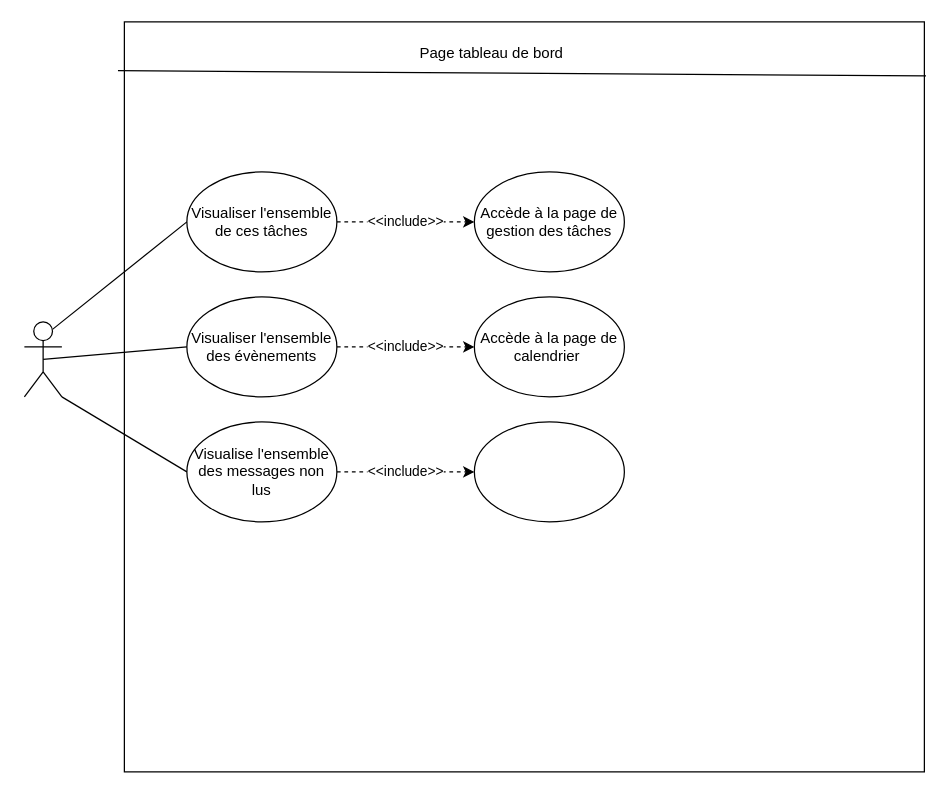
This 950x794 diagram has some shape labels left out. The centre of each missing label's shape, as x and y in pixels:
"Accède au tchat" belongs at [548,471].
"Acteur" belongs at [42,359].
